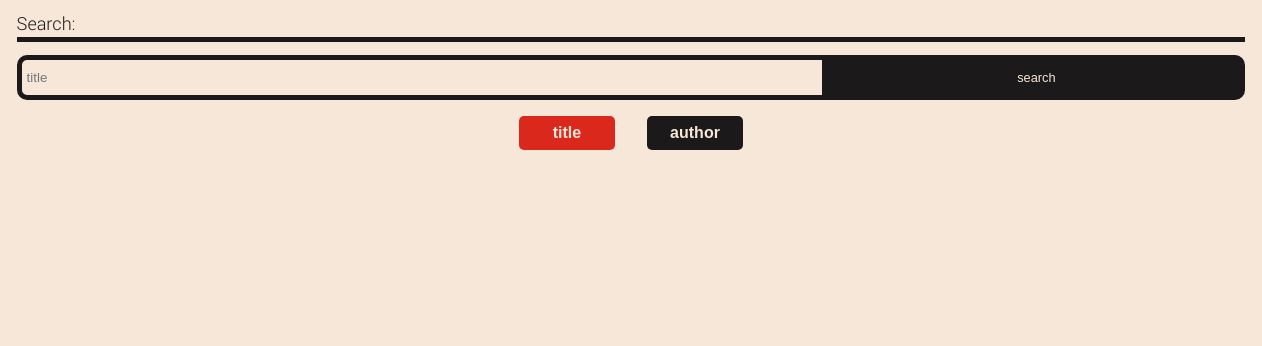
Test case: BookSearch page › Should render results of successful search
The width and height of the screenshot is (1262, 346).
Expected: the text "Death's End" is not shown
Step 1. Type "Death" into the field with test id "search-input" → point(422, 77), box [17,55,828,100]
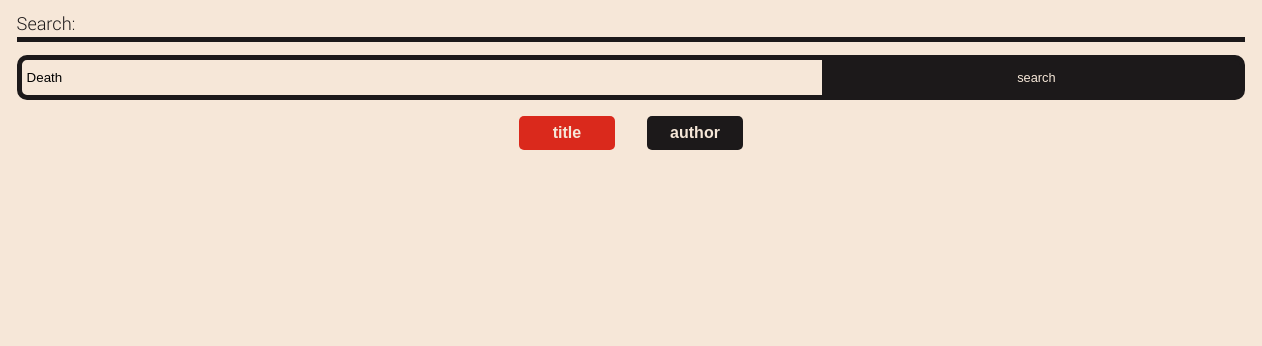
Step 2. Click the button with test id "search-button" → point(1036, 77), box [828,55,1245,100]
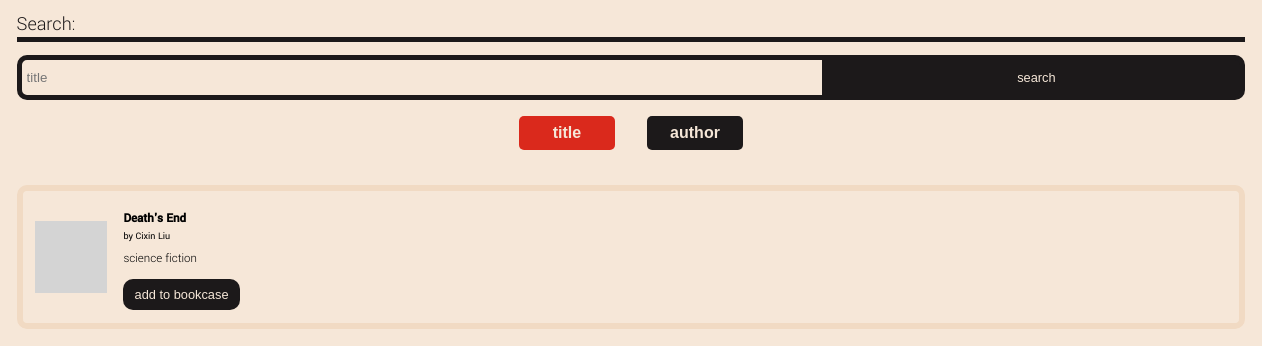
Result: the heading "Death's End" is shown at [123,210,186,227]
